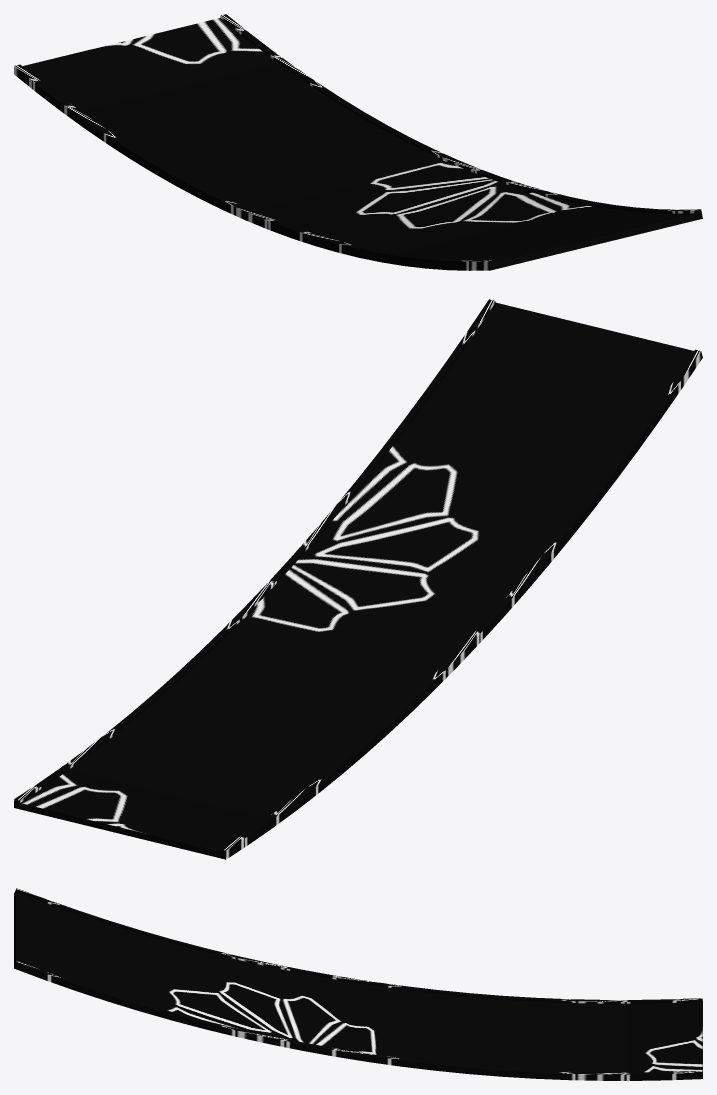
3 renders of one model, top to bottom at view 1: azimuth 30°, elevation 25°; view 2: azimuth 150°, elevation 25°; view 3: azimuth 270°, elevation 25°, orthographic. The views are drawn at different scales.
Parts seen in each view (by area): view 1: 10; view 2: 10; view 3: 10.
Boxes of the visible parts, left/top/right/bottom form: 10: left=14, top=14, right=702, bottom=270; 10: left=14, top=299, right=702, bottom=859; 10: left=14, top=888, right=702, bottom=1080.
Bounding box in the file's own units: 1800 × 7010 × 1326.
